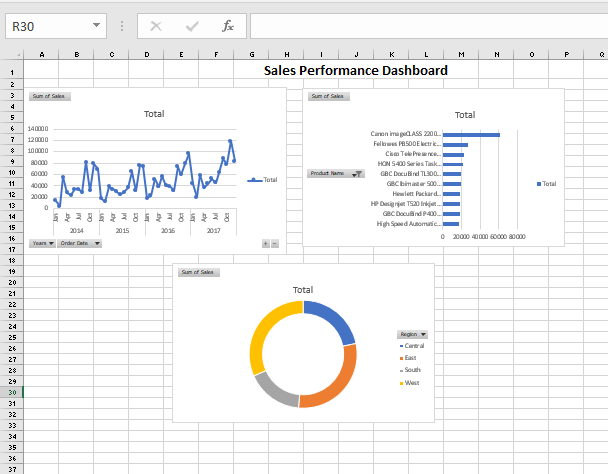

The page's visual inventory and layout, read from the dashboard file:
{"tool":"powerbi","page":{"name":"Page 1","canvas":[1280,720],"ordinal":0},"visuals":[{"type":"card","fields":{"Values":["Sum(Superstore sales dataset (1).Sales)"]},"box":[0,0,279.5,279.5],"z":0},{"type":"card","fields":{"Values":["Sum(Superstore sales dataset (1).Profit)"]},"box":[0,329.3,280.3,280.3],"z":1},{"type":"lineChart","fields":{"Category":["Superstore sales dataset (1).Order Date.Variation.Date Hierarchy.Month"],"Y":["Sum(Superstore sales dataset (1).Sales)"]},"box":[242.3,14,519.7,309],"z":2},{"type":"clusteredBarChart","fields":{"Category":["Superstore sales dataset (1).Product Name"],"Y":["Sum(Superstore sales dataset (1).Sales)"]},"box":[289.7,410.9,491.6,309],"z":3},{"type":"pieChart","fields":{"Category":["Superstore sales dataset (1).Region"],"Y":["Sum(Superstore sales dataset (1).Sales)"]},"box":[788,77,492,309],"z":4},{"type":"slicer","fields":{"Values":["Superstore sales dataset (1).Category"]},"box":[943.6,460.1,280.3,149.5],"z":6}]}

Visuals, with their boxes on the page's 1280x720 design canvas (x1, y1, x2, y2). These are canvas units, not pixel positions in the 608x474 screenshot, which may show the page scaled, cropped or inside an application window:
card - Sum(Superstore sales dataset (1).Sales): crop(0, 0, 280, 280)
card - Sum(Superstore sales dataset (1).Profit): crop(0, 329, 280, 610)
lineChart - Superstore sales dataset (1).Order Date.Variation.Date Hierarchy.Month x Sum(Superstore sales dataset (1).Sales): crop(242, 14, 762, 323)
clusteredBarChart - Superstore sales dataset (1).Product Name x Sum(Superstore sales dataset (1).Sales): crop(290, 411, 781, 720)
pieChart - Superstore sales dataset (1).Region x Sum(Superstore sales dataset (1).Sales): crop(788, 77, 1280, 386)
slicer - Superstore sales dataset (1).Category: crop(944, 460, 1224, 610)
